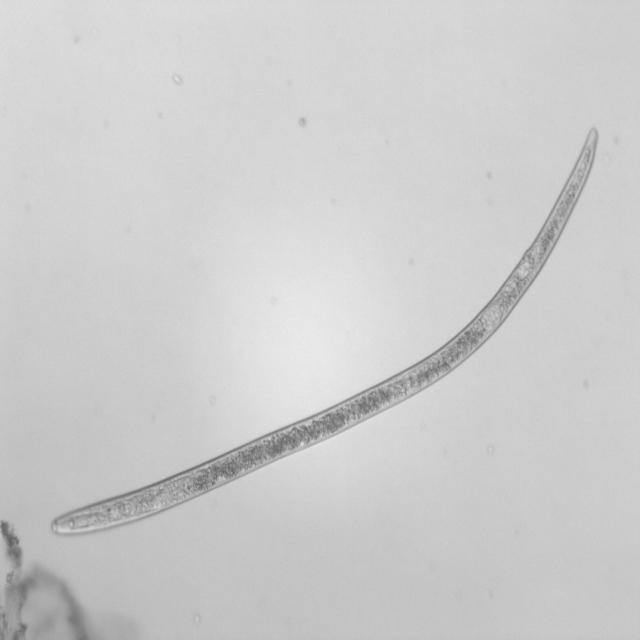Pratylenchus: (43, 116, 605, 536)
